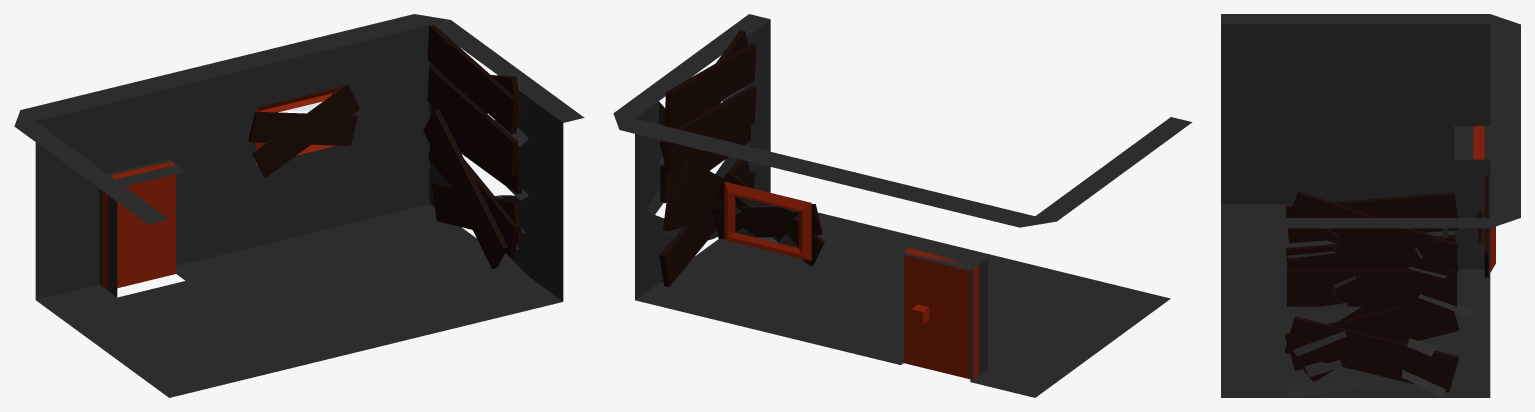
File: home2@in_open_s.FBX
The picture shows the model from 3 angles, left to right: view 1: azimuth 30°, elevation 25°; view 2: azimuth 150°, elevation 25°; view 3: azimuth 270°, elevation 25°; orthographic projection.
Parts seen in each view (by area): view 1: Box001, Object001; view 2: Box001, Object001; view 3: Box001, Object001.
Boxes of the visible parts, x1,y1,x2,y2 form: Box001: (14, 14, 584, 397); Object001: (102, 161, 176, 290); Box001: (613, 14, 1192, 397); Object001: (903, 248, 978, 379); Box001: (1221, 14, 1520, 397); Object001: (1473, 126, 1484, 265).
Size of the model in its own units: 97.56 by 42.46 by 57.64.
